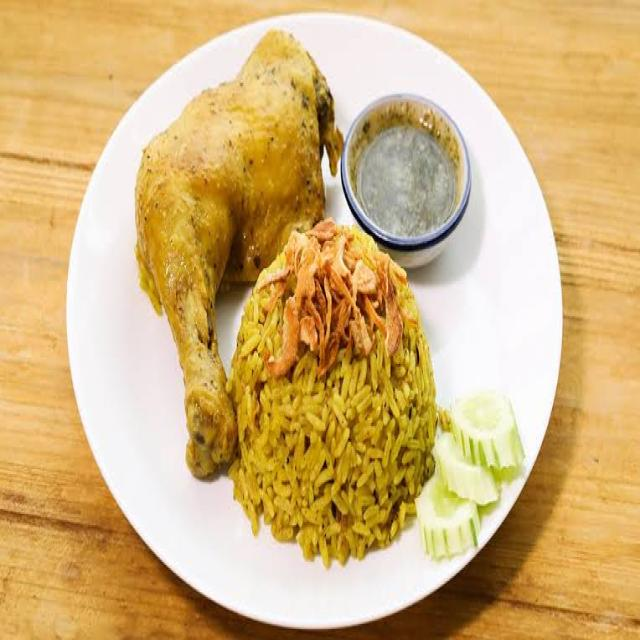carb: (247, 249, 422, 573)
chicken biryani: (123, 72, 426, 527)
meat: (107, 40, 312, 416)
vegetable: (445, 399, 508, 549)
